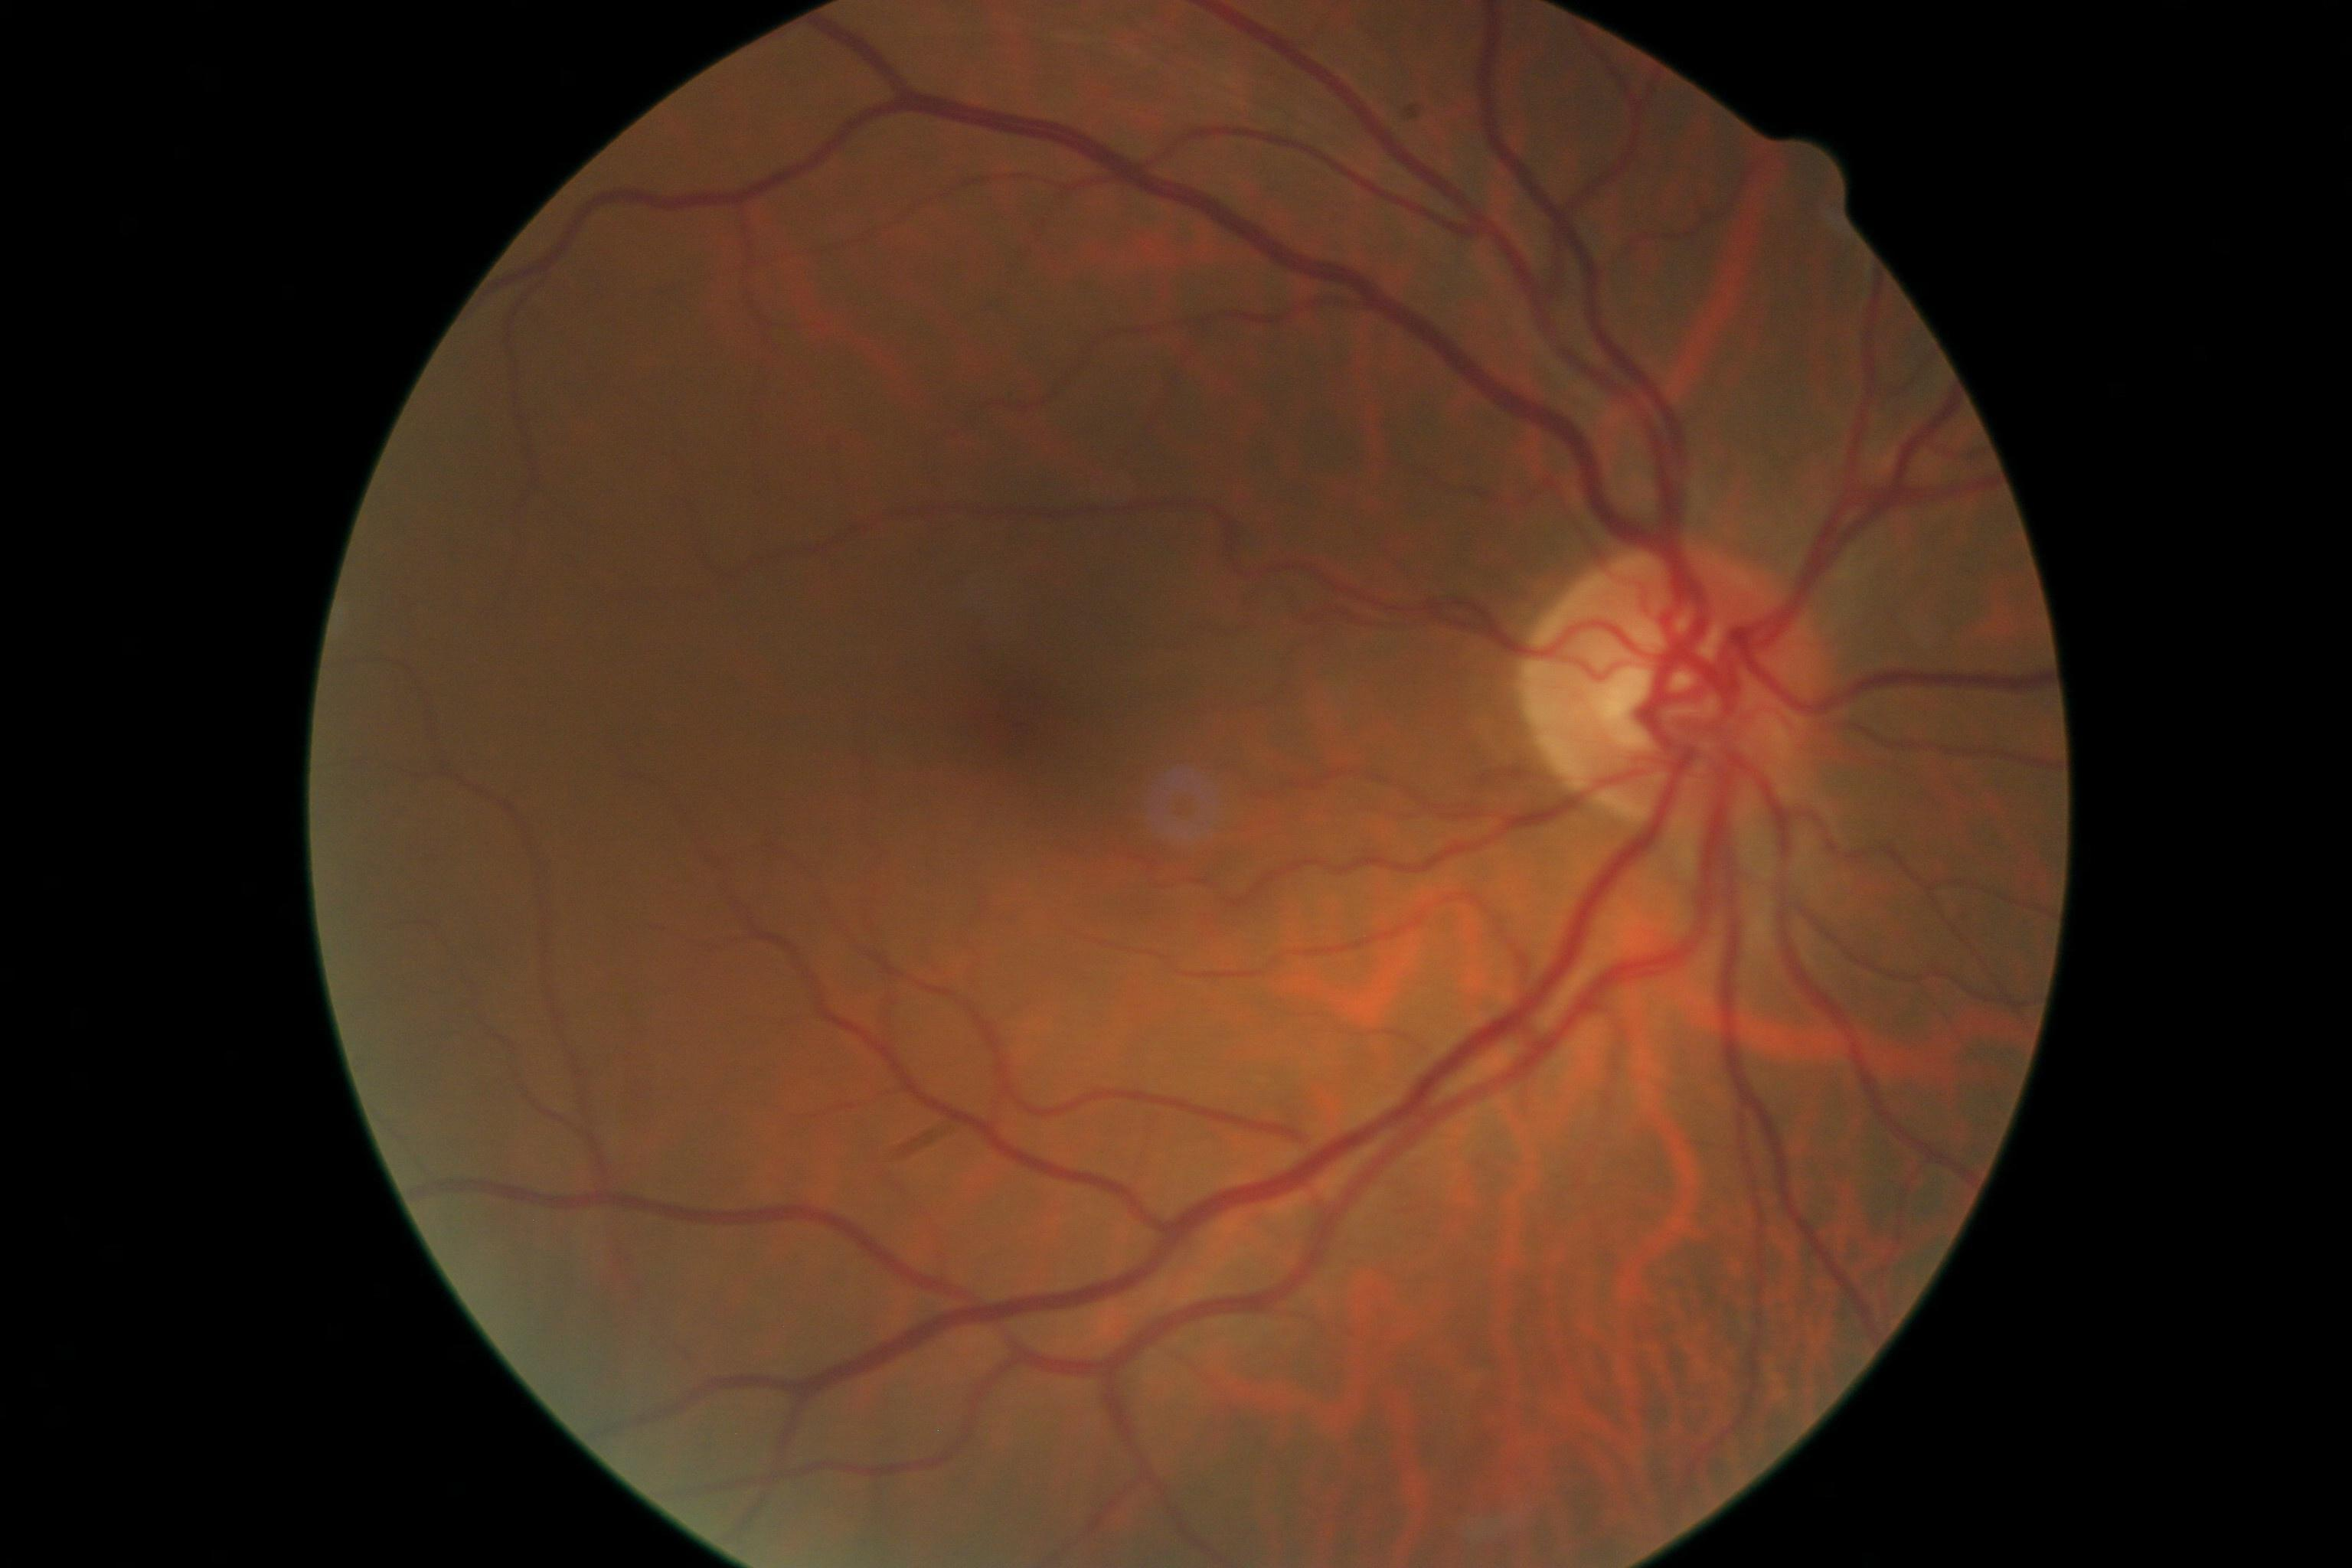Optic-nerve: (1524, 546, 1832, 833)
macula: (864, 521, 1297, 885)
notch: (1755, 126, 1851, 222)
